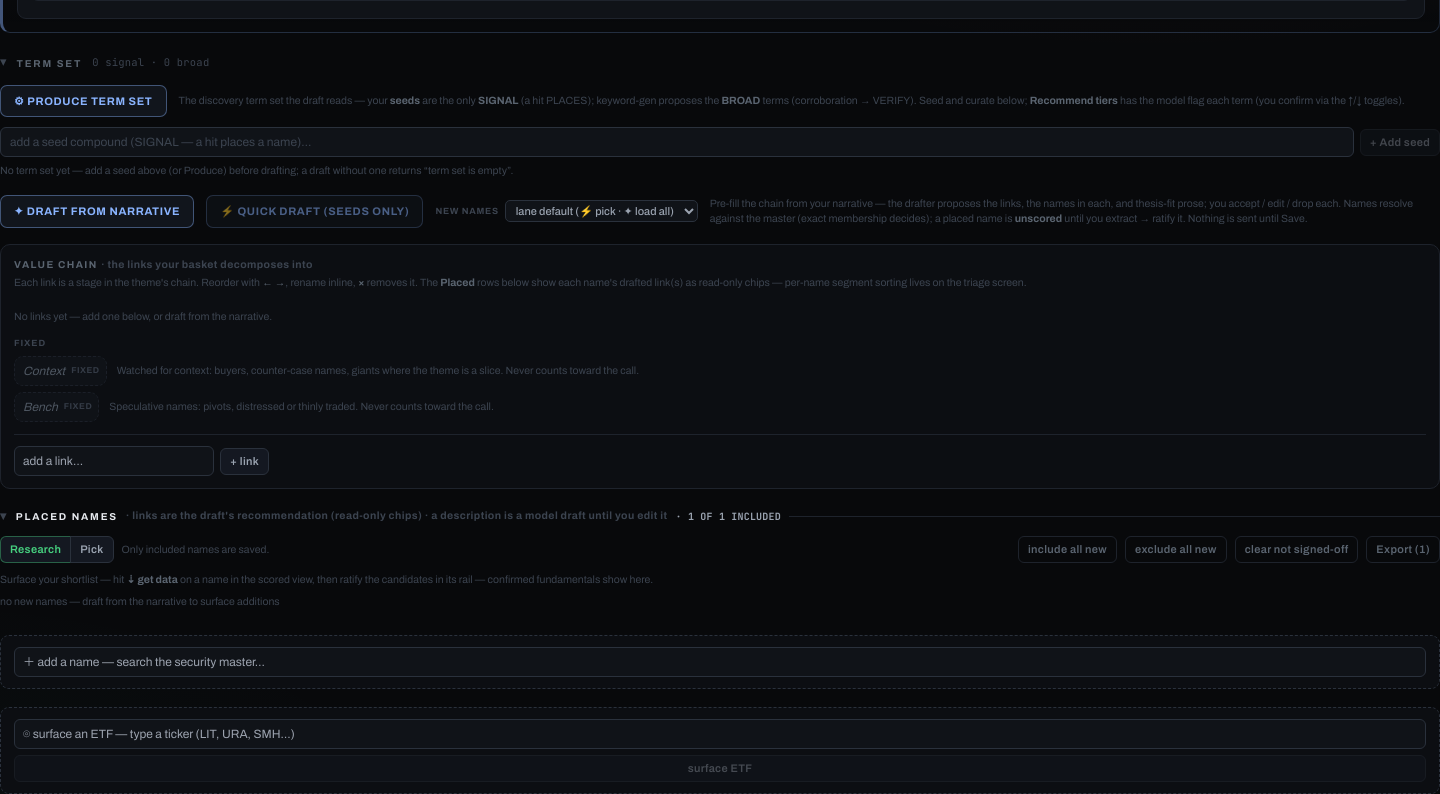
Test: ChainEditor — authoring › adds a name via the resolver typeahead — AUTO-signed-off, its description a model draft (locked decision 1)
The image size is (1440, 794).
(page scrolled)
In the field named "search securities": (720, 662) [14, 647, 1426, 677], type "cc"
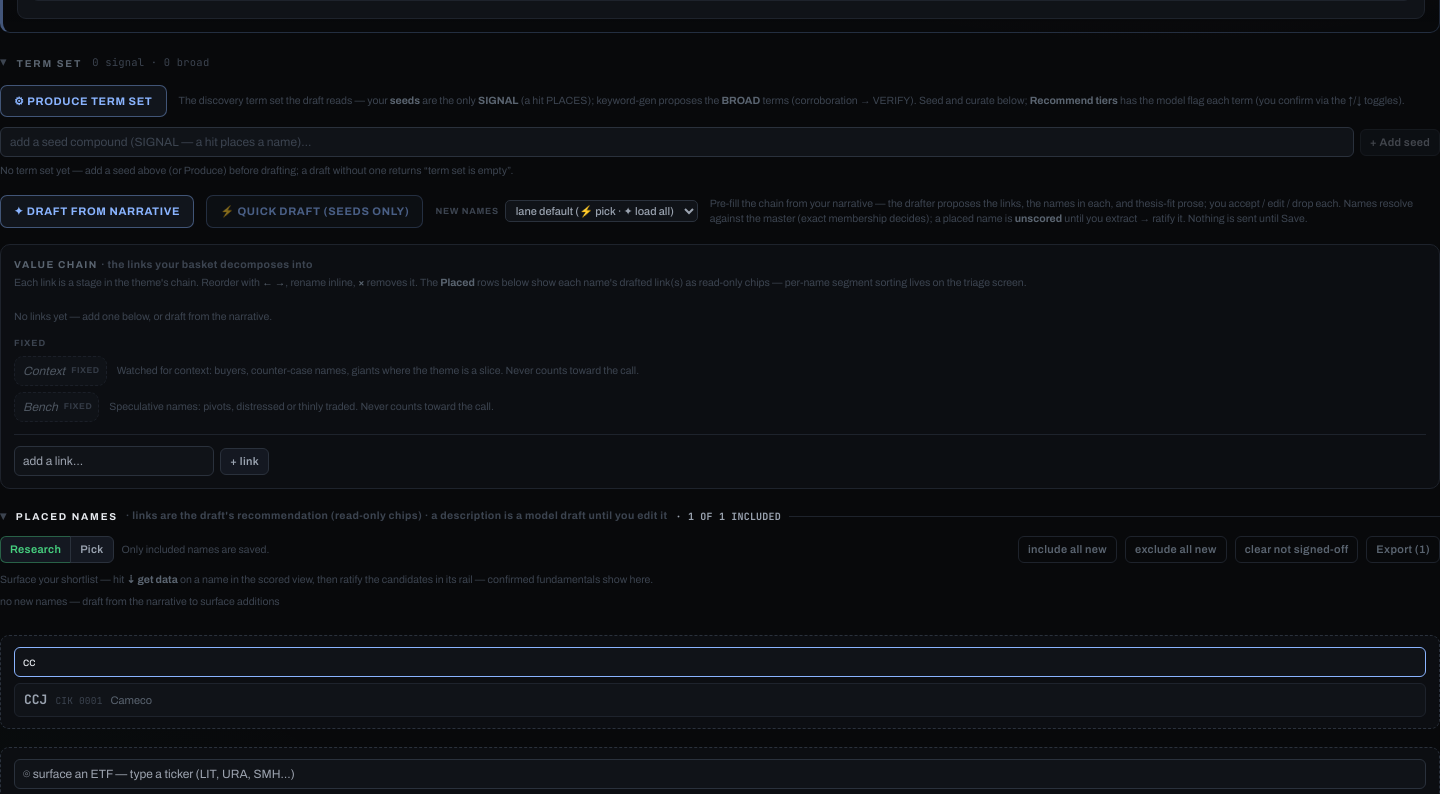
Expected: the button "CCJ CIK 0001 Cameco" is shown
Click the button "CCJ CIK 0001 Cameco": (131, 700) [14, 683, 1426, 717]
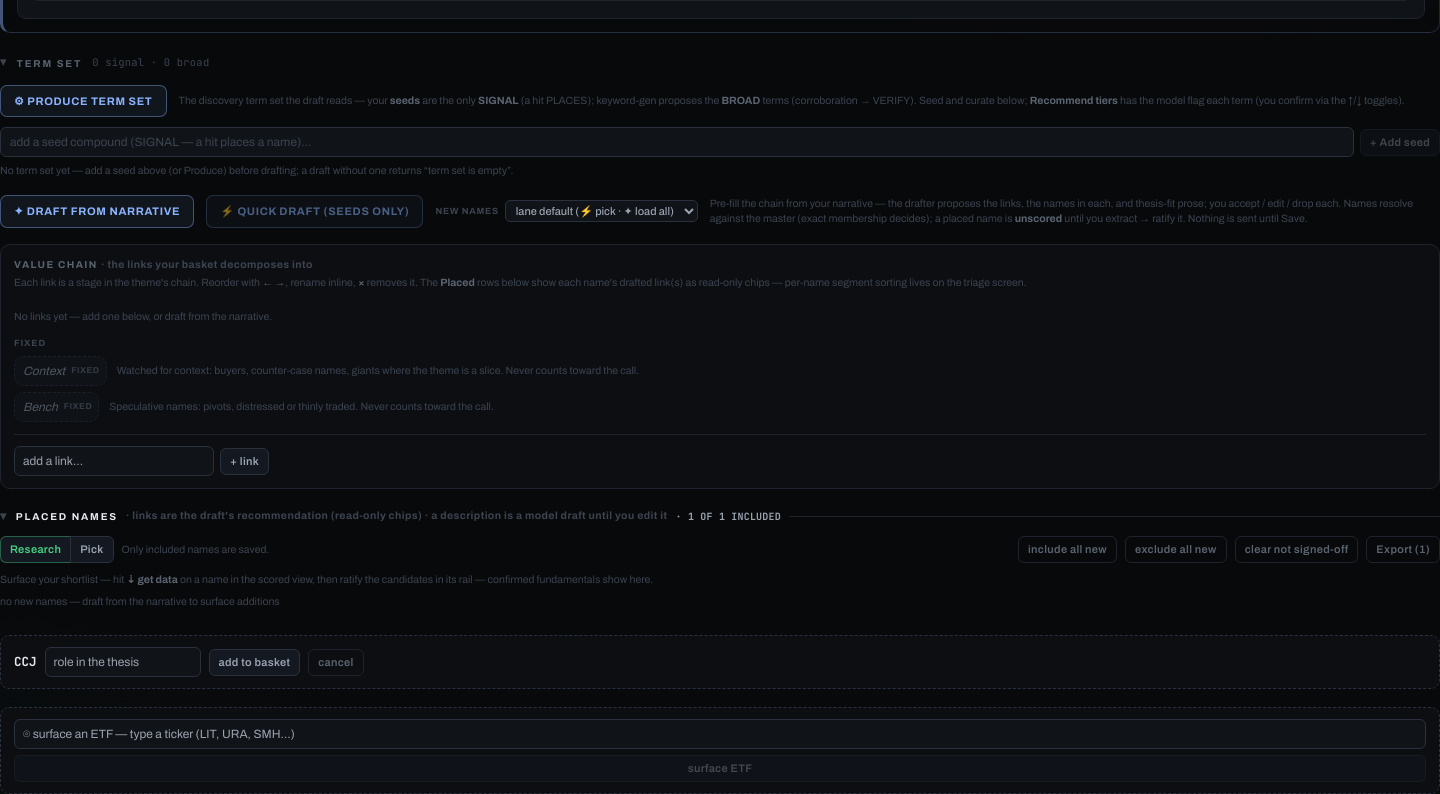
In the field labelled "role": (122, 662) [44, 647, 200, 677], type "the uranium anchor"
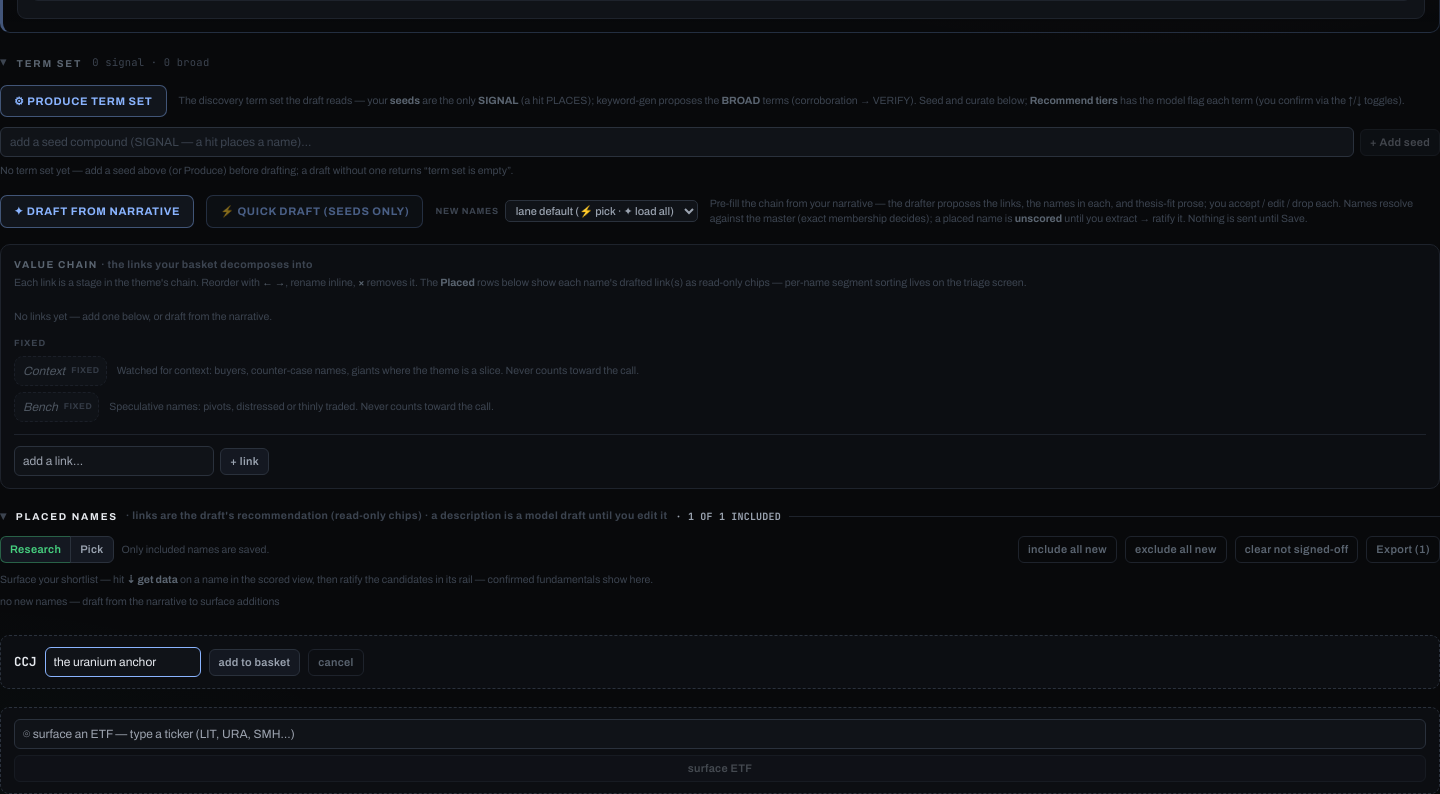
Click the button "add to basket": (254, 662) [208, 649, 300, 676]
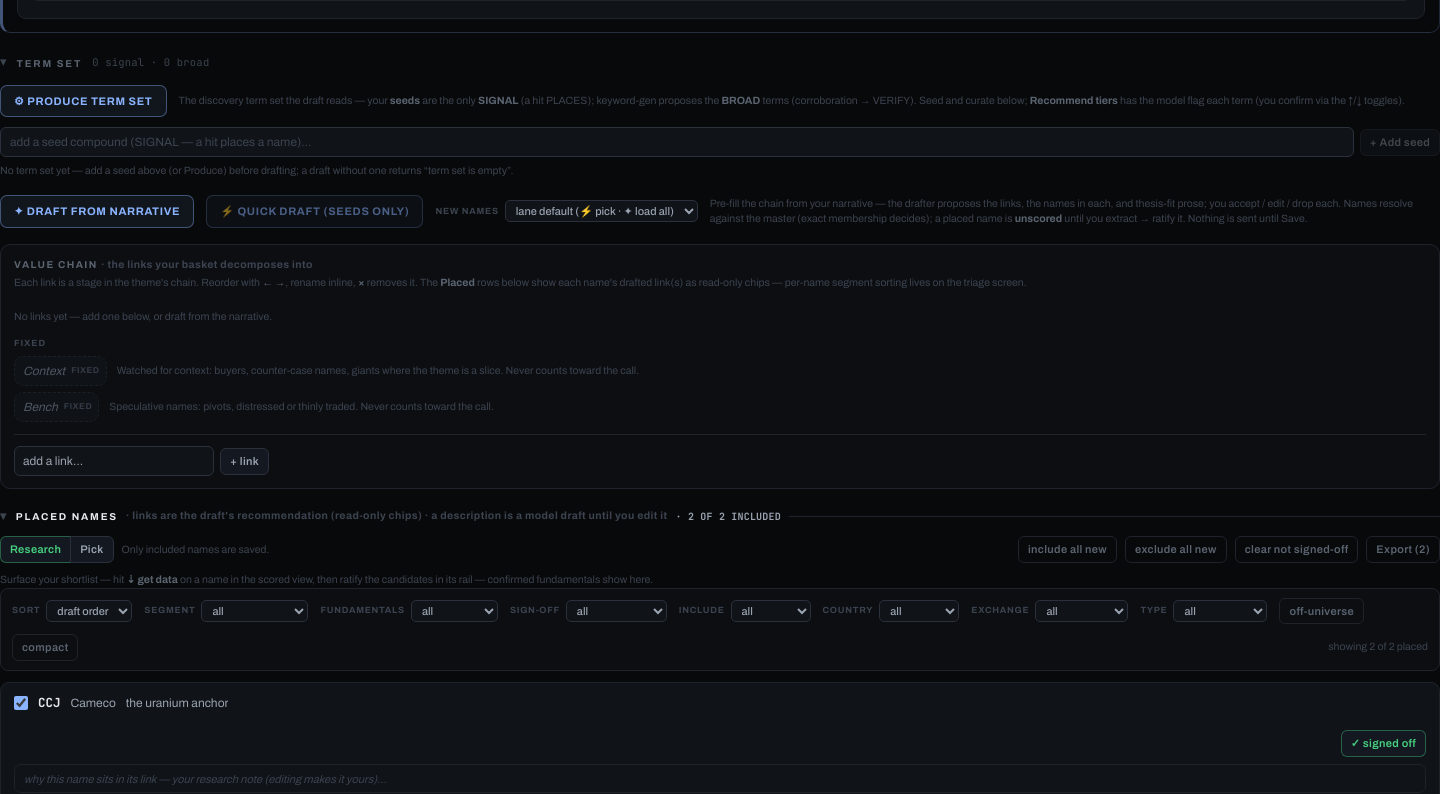
Expected: the checkbox named "include CCJ" is shown, [14, 696, 28, 710]
Expected: the button with aria-label "withdraw sign-off CCJ" is shown, [1341, 730, 1426, 757]
